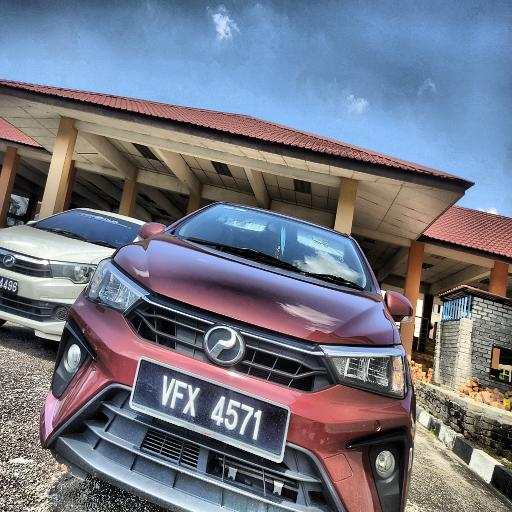license_plate: (131, 357, 288, 460), (0, 275, 21, 297)
